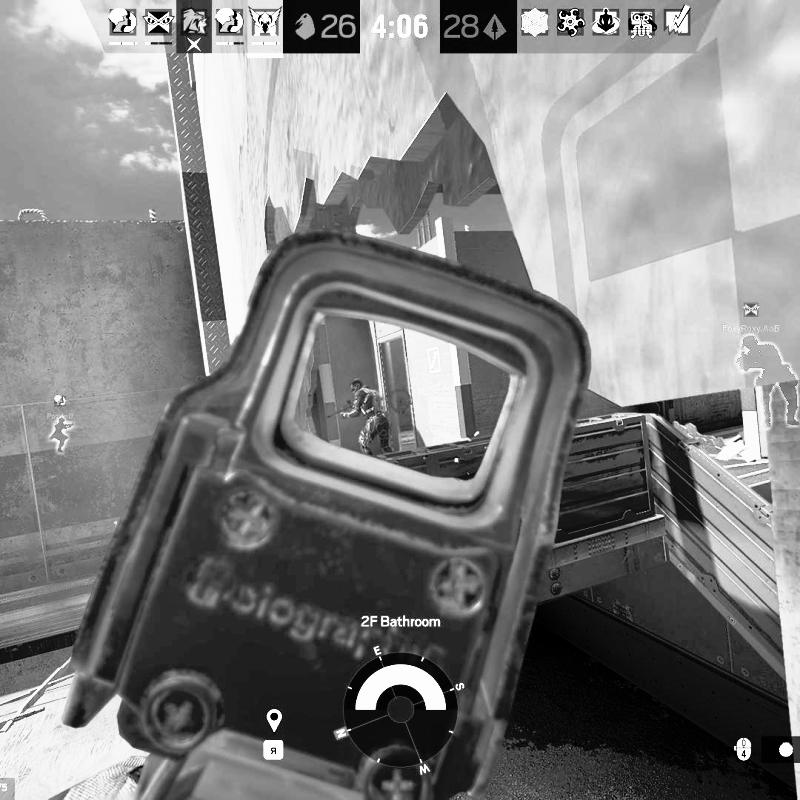Character: (340, 375, 396, 458)
Friend_label: (721, 298, 782, 335), (45, 394, 74, 420)
Head: (348, 377, 364, 394)
